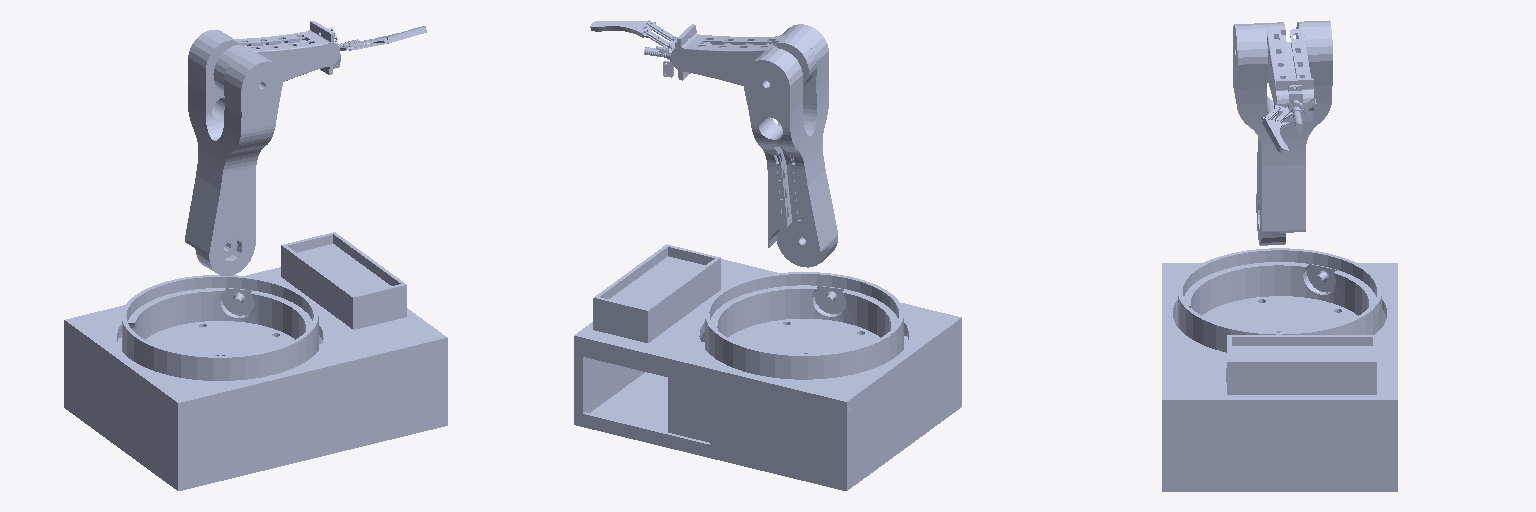
The robot description file, URDF, robot "Ensamblee":
<?xml version="1.0" encoding="utf-8"?>
<!-- This URDF was automatically created by SolidWorks to URDF Exporter! Originally created by Stephen Brawner (brawner@gmail.com) 
     Commit Version: 1.6.0-4-g7f85cfe  Build Version: 1.6.7995.38578
     For more information, please see http://wiki.ros.org/sw_urdf_exporter -->
<robot
  name="Ensamblee">
  <link
    name="base_link">
    <inertial>
      <origin
        xyz="0.035133 0.0010982 0.059578"
        rpy="0 0 0" />
      <mass
        value="1.6222" />
      <inertia
        ixx="0.0057091"
        ixy="0.00016017"
        ixz="-1.9562E-07"
        iyy="0.0078069"
        iyz="7.9795E-07"
        izz="0.01293" />
    </inertial>
    <visual>
      <origin
        xyz="0 0 0"
        rpy="0 0 0" />
      <geometry>
        <mesh
          filename="package://Ensamblee/meshes/base_link.STL" />
      </geometry>
      <material
        name="">
        <color
          rgba="0.79216 0.81961 0.93333 1" />
      </material>
    </visual>
    <collision>
      <origin
        xyz="0 0 0"
        rpy="0 0 0" />
      <geometry>
        <mesh
          filename="package://Ensamblee/meshes/base_link.STL" />
      </geometry>
    </collision>
  </link>
  <link
    name="base_giratoria">
    <inertial>
      <origin
        xyz="-0.00012545 -0.0015041 0.14037"
        rpy="0 0 0" />
      <mass
        value="0.27811" />
      <inertia
        ixx="0.00049658"
        ixy="-4.0519E-06"
        ixz="-2.3048E-07"
        iyy="0.00045443"
        iyz="-3.5467E-06"
        izz="0.00066548" />
    </inertial>
    <visual>
      <origin
        xyz="0 0 0"
        rpy="0 0 0" />
      <geometry>
        <mesh
          filename="package://Ensamblee/meshes/base_giratoria.STL" />
      </geometry>
      <material
        name="">
        <color
          rgba="1 1 1 1" />
      </material>
    </visual>
    <collision>
      <origin
        xyz="0 0 0"
        rpy="0 0 0" />
      <geometry>
        <mesh
          filename="package://Ensamblee/meshes/base_giratoria.STL" />
      </geometry>
    </collision>
  </link>
  <joint
    name="joint_1"
    type="revolute">
    <origin
      xyz="0 0 0"
      rpy="0 0 0" />
    <parent
      link="base_link" />
    <child
      link="base_giratoria" />
    <axis
      xyz="0 0 1" />
    <limit
      lower="-3.14"
      upper="3.14"
      effort="100"
      velocity="3.14" />
  </joint>
  <link
    name="brazo_inferior">
    <inertial>
      <origin
        xyz="0.10277 -0.010539 0.0045472"
        rpy="0 0 0" />
      <mass
        value="0.41319" />
      <inertia
        ixx="0.00031344"
        ixy="0.00016033"
        ixz="4.1036E-05"
        iyy="0.0018606"
        iyz="-4.2071E-06"
        izz="0.0017287" />
    </inertial>
    <visual>
      <origin
        xyz="0 0 0"
        rpy="0 0 0" />
      <geometry>
        <mesh
          filename="package://Ensamblee/meshes/brazo_inferior.STL" />
      </geometry>
      <material
        name="">
        <color
          rgba="0.79216 0.81961 0.93333 1" />
      </material>
    </visual>
    <collision>
      <origin
        xyz="0 0 0"
        rpy="0 0 0" />
      <geometry>
        <mesh
          filename="package://Ensamblee/meshes/brazo_inferior.STL" />
      </geometry>
    </collision>
  </link>
  <joint
    name="joint_2"
    type="revolute">
    <origin
      xyz="0.00032733 0.0034847 0.1945"
      rpy="1.6645 -1.5708 0" />
    <parent
      link="base_giratoria" />
    <child
      link="brazo_inferior" />
    <axis
      xyz="0 0 -1" />
    <limit
      lower="-1.57"
      upper="1.57"
      effort="100"
      velocity="3.14" />
  </joint>
  <link
    name="brazo_superior">
    <inertial>
      <origin
        xyz="0.049945 -0.003032 0.0023765"
        rpy="0 0 0" />
      <mass
        value="0.13139" />
      <inertia
        ixx="2.7543E-05"
        ixy="6.4343E-06"
        ixz="1.1157E-05"
        iyy="0.00016188"
        iyz="-6.8148E-07"
        izz="0.00016442" />
    </inertial>
    <visual>
      <origin
        xyz="0 0 0"
        rpy="0 0 0" />
      <geometry>
        <mesh
          filename="package://Ensamblee/meshes/brazo_superior.STL" />
      </geometry>
      <material
        name="">
        <color
          rgba="0.79216 0.81961 0.93333 1" />
      </material>
    </visual>
    <collision>
      <origin
        xyz="0 0 0"
        rpy="0 0 0" />
      <geometry>
        <mesh
          filename="package://Ensamblee/meshes/brazo_superior.STL" />
      </geometry>
    </collision>
  </link>
  <joint
    name="joint_3"
    type="revolute">
    <origin
      xyz="0.17906 -0.018361 0.00076231"
      rpy="0 0 -1.5708" />
    <parent
      link="brazo_inferior" />
    <child
      link="brazo_superior" />
    <axis
      xyz="0 0 -1" />
    <limit
      lower="-1.57"
      upper="1.57"
      effort="100"
      velocity="3.14" />
  </joint>
  <link
    name="dedo_1">
    <inertial>
      <origin
        xyz="0.044604 -0.011038 0.00099967"
        rpy="0 0 0" />
      <mass
        value="0.0045852" />
      <inertia
        ixx="1.1247E-07"
        ixy="-1.5654E-07"
        ixz="9.1993E-14"
        iyy="1.0476E-06"
        iyz="-7.4756E-13"
        izz="1.1404E-06" />
    </inertial>
    <visual>
      <origin
        xyz="0 0 0"
        rpy="0 0 0" />
      <geometry>
        <mesh
          filename="package://Ensamblee/meshes/dedo_1.STL" />
      </geometry>
      <material
        name="">
        <color
          rgba="0.79216 0.81961 0.93333 1" />
      </material>
    </visual>
    <collision>
      <origin
        xyz="0 0 0"
        rpy="0 0 0" />
      <geometry>
        <mesh
          filename="package://Ensamblee/meshes/dedo_1.STL" />
      </geometry>
    </collision>
  </link>
  <joint
    name="joint_4"
    type="revolute">
    <origin
      xyz="0.12475 -0.0039498 -0.0063922"
      rpy="2.2502 0.079705 0.017371" />
    <parent
      link="brazo_superior" />
    <child
      link="dedo_1" />
    <axis
      xyz="0 0 -1" />
    <limit
      lower="0"
      upper="0.5"
      effort="10"
      velocity="1" />
  </joint>
  <link
    name="dedo_2">
    <inertial>
      <origin
        xyz="0.04204 -0.018546 -0.001"
        rpy="0 0 0" />
      <mass
        value="0.0045852" />
      <inertia
        ixx="8.7082E-08"
        ixy="1.1185E-08"
        ixz="-3.7978E-14"
        iyy="1.0729E-06"
        iyz="-7.5224E-13"
        izz="1.1404E-06" />
    </inertial>
    <visual>
      <origin
        xyz="0 0 0"
        rpy="0 0 0" />
      <geometry>
        <mesh
          filename="package://Ensamblee/meshes/dedo_2.STL" />
      </geometry>
      <material
        name="">
        <color
          rgba="0.79216 0.81961 0.93333 1" />
      </material>
    </visual>
    <collision>
      <origin
        xyz="0 0 0"
        rpy="0 0 0" />
      <geometry>
        <mesh
          filename="package://Ensamblee/meshes/dedo_2.STL" />
      </geometry>
    </collision>
  </link>
  <joint
    name="joint_5"
    type="revolute">
    <origin
      xyz="0.12464 -0.0062567 0.008678"
      rpy="-1.942 0.065782 -0.072428" />
    <parent
      link="brazo_superior" />
    <child
      link="dedo_2" />
    <axis
      xyz="0 0 -1" />
    <limit
      lower="0"
      upper="0.5"
      effort="10"
      velocity="1" />
  </joint>
  <link
    name="dedo_3">
    <inertial>
      <origin
        xyz="0.042725 -0.01691 0.00099389"
        rpy="0 0 0" />
      <mass
        value="0.0045852" />
      <inertia
        ixx="8.7688E-08"
        ixy="-2.6872E-08"
        ixz="1.2559E-10"
        iyy="1.0723E-06"
        iyz="2.1926E-12"
        izz="1.1404E-06" />
    </inertial>
    <visual>
      <origin
        xyz="0 0 0"
        rpy="0 0 0" />
      <geometry>
        <mesh
          filename="package://Ensamblee/meshes/dedo_3.STL" />
      </geometry>
      <material
        name="">
        <color
          rgba="0.79216 0.81961 0.93333 1" />
      </material>
    </visual>
    <collision>
      <origin
        xyz="0 0 0"
        rpy="0 0 0" />
      <geometry>
        <mesh
          filename="package://Ensamblee/meshes/dedo_3.STL" />
      </geometry>
    </collision>
  </link>
  <joint
    name="joint_6"
    type="revolute">
    <origin
      xyz="0.12401 -0.019698 -0.0021097"
      rpy="0.15313 -0.0049958 -0.015269" />
    <parent
      link="brazo_superior" />
    <child
      link="dedo_3" />
    <axis
      xyz="0 0 -1" />
    <limit
      lower="0"
      upper="0.5"
      effort="10"
      velocity="1" />
  </joint>
</robot>

--- Render facts (derived) ---
Views: 3 orthographic renders of the robot side by side, from view 1: azimuth 30°, elevation 25°; view 2: azimuth 150°, elevation 25°; view 3: azimuth 270°, elevation 25°.
Robot: Ensamblee — 7 links, 6 joints (6 revolute); root link base_link; default pose: all joints at 0.
Links seen in each view (by area): view 1: base_link, brazo_inferior, brazo_superior, dedo_2; view 2: base_link, brazo_inferior, brazo_superior, dedo_2; view 3: base_link, brazo_inferior, brazo_superior, dedo_2.
Link boxes in pixels (<box>): base_link: <box>64,232,447,490</box>; brazo_inferior: <box>185,30,282,276</box>; brazo_superior: <box>213,21,359,92</box>; dedo_2: <box>343,26,426,50</box>; base_link: <box>574,244,961,490</box>; brazo_inferior: <box>743,24,837,267</box>; brazo_superior: <box>644,24,816,85</box>; dedo_2: <box>590,20,675,49</box>; base_link: <box>1162,248,1397,491</box>; brazo_inferior: <box>1233,20,1332,245</box>; brazo_superior: <box>1265,22,1316,137</box>; dedo_2: <box>1261,106,1292,155</box>.
Size in the robot's own frame: 0.3413 by 0.22 by 0.3985 metres.
4 mesh visuals loaded from 7 distinct referenced files (4 binary STL); not drawn: 3 (file found but could not be loaded).
